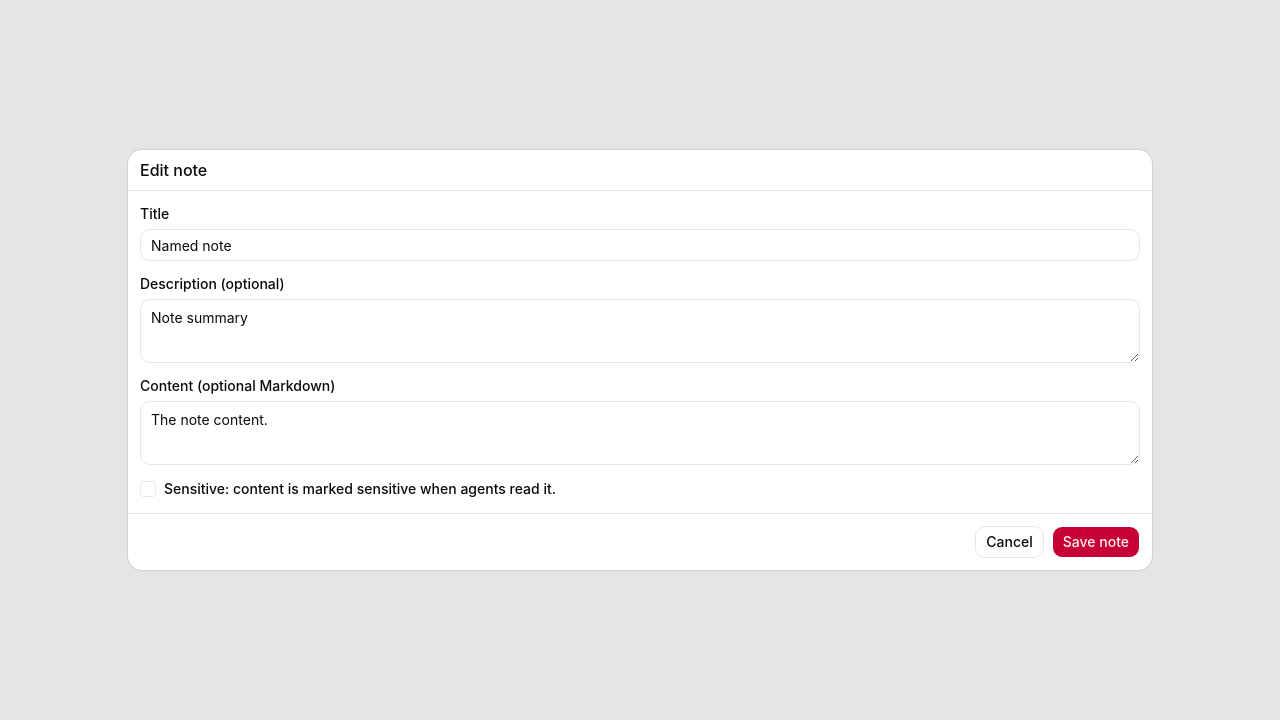
Test: note resource dialog ownership › submits the edit form through its explicit dialog footer
Replace the text in the field with id "session-note-title" with "Saved name": point(640, 245) [140,229,1140,261]
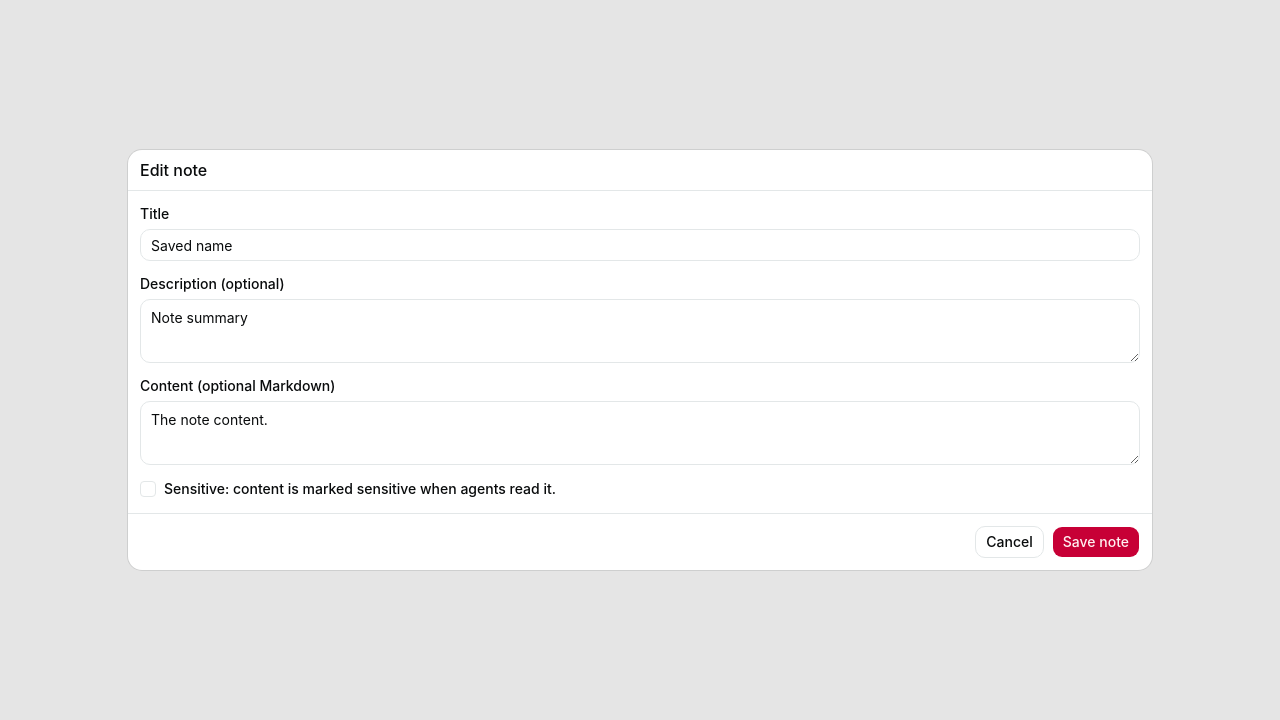
Click the button "Save note": point(1096, 542) [1052,526,1140,558]
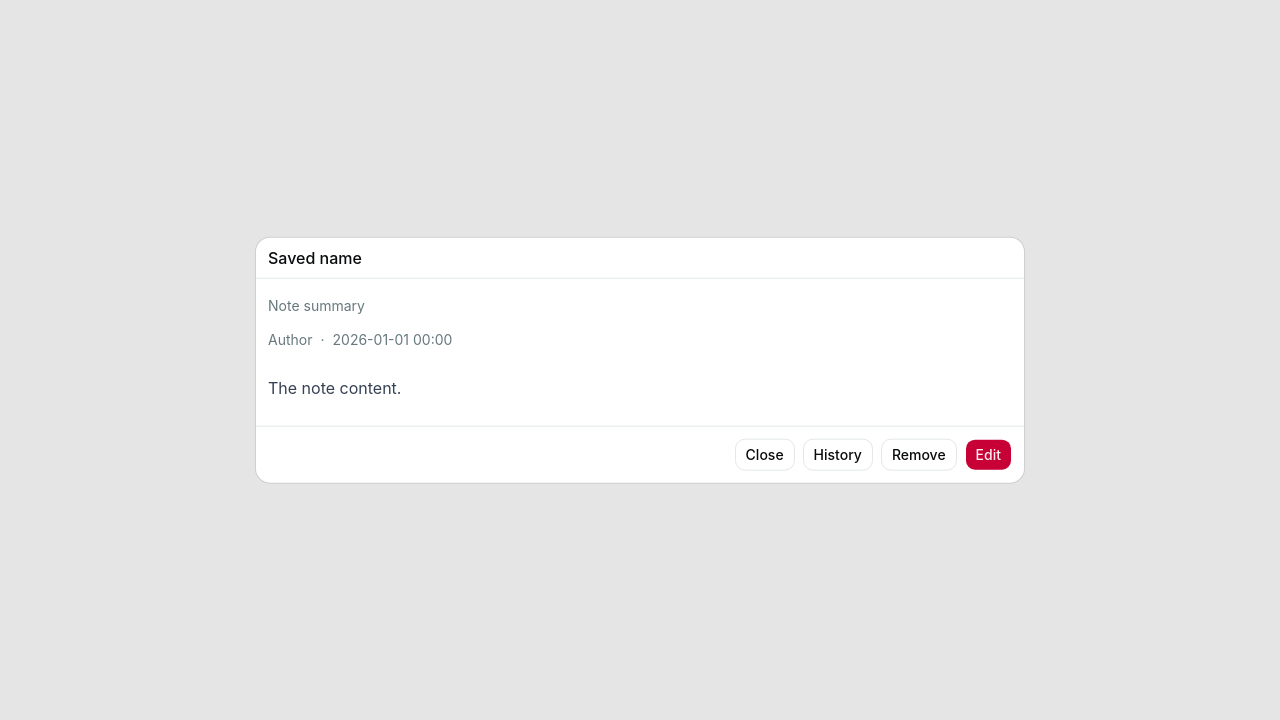
expect the heading "Saved name" is shown: met, box [268,248,362,268]
